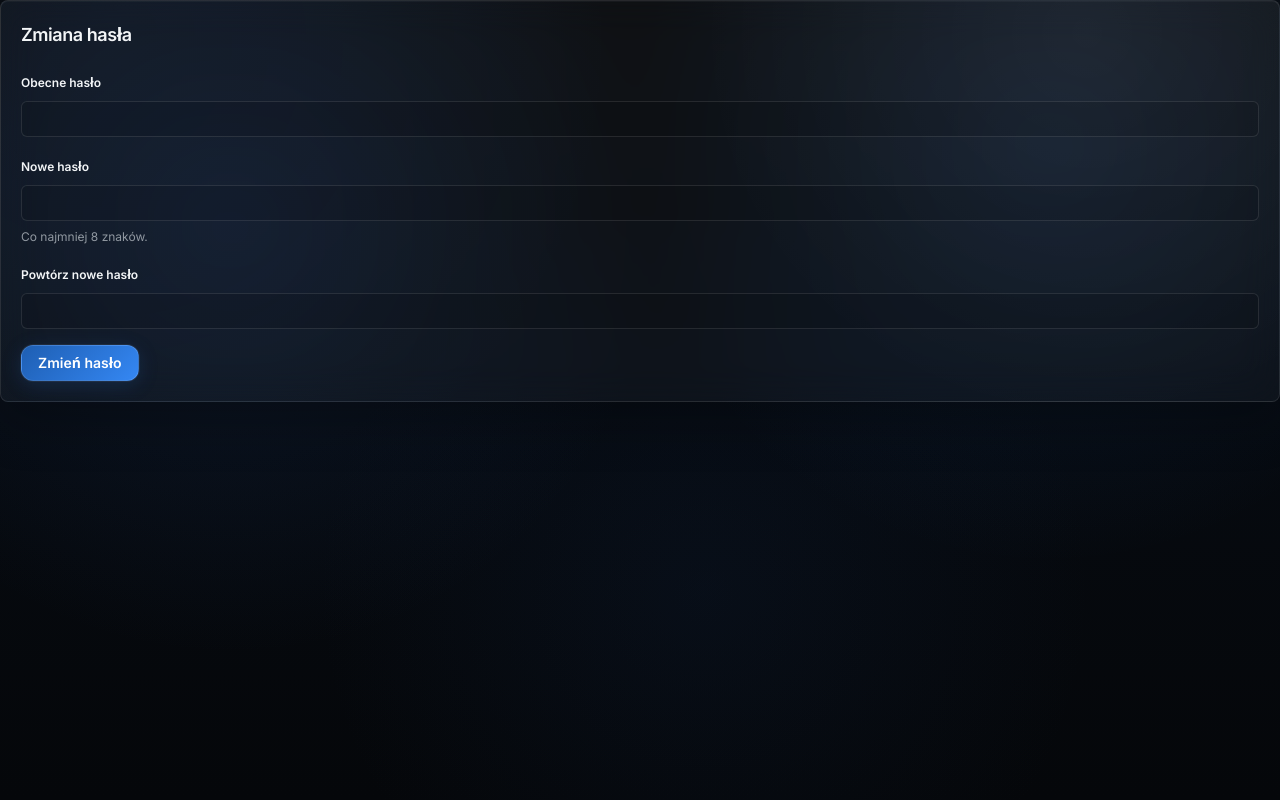
Test: ChangePasswordCard › blocks a too-short password
The width and height of the screenshot is (1280, 800).
Type "demo1234" into the password field labelled "Obecne hasło".
click(640, 119); type("demo1234")  # box [21,101,1259,137]
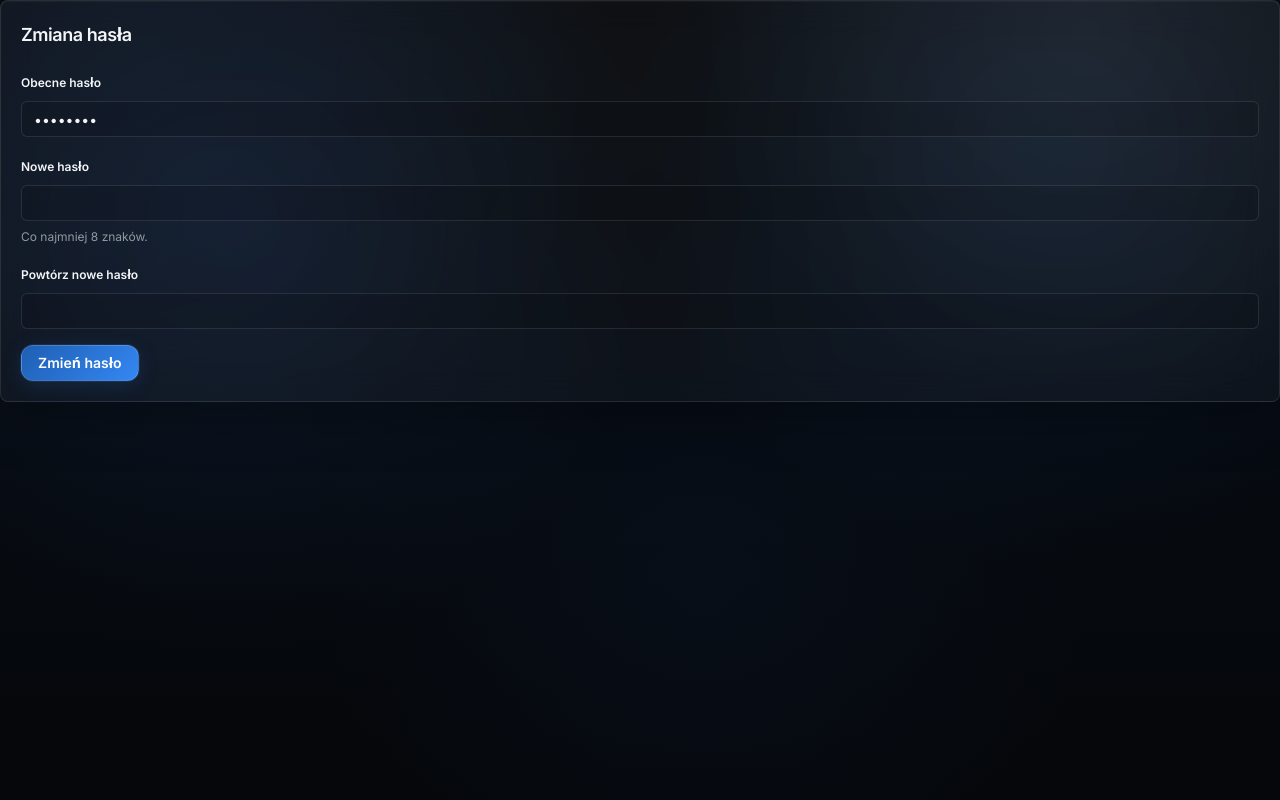
Type "short7!" into the password field labelled "Nowe hasło".
click(640, 203); type("short7!")  # box [21,185,1259,221]
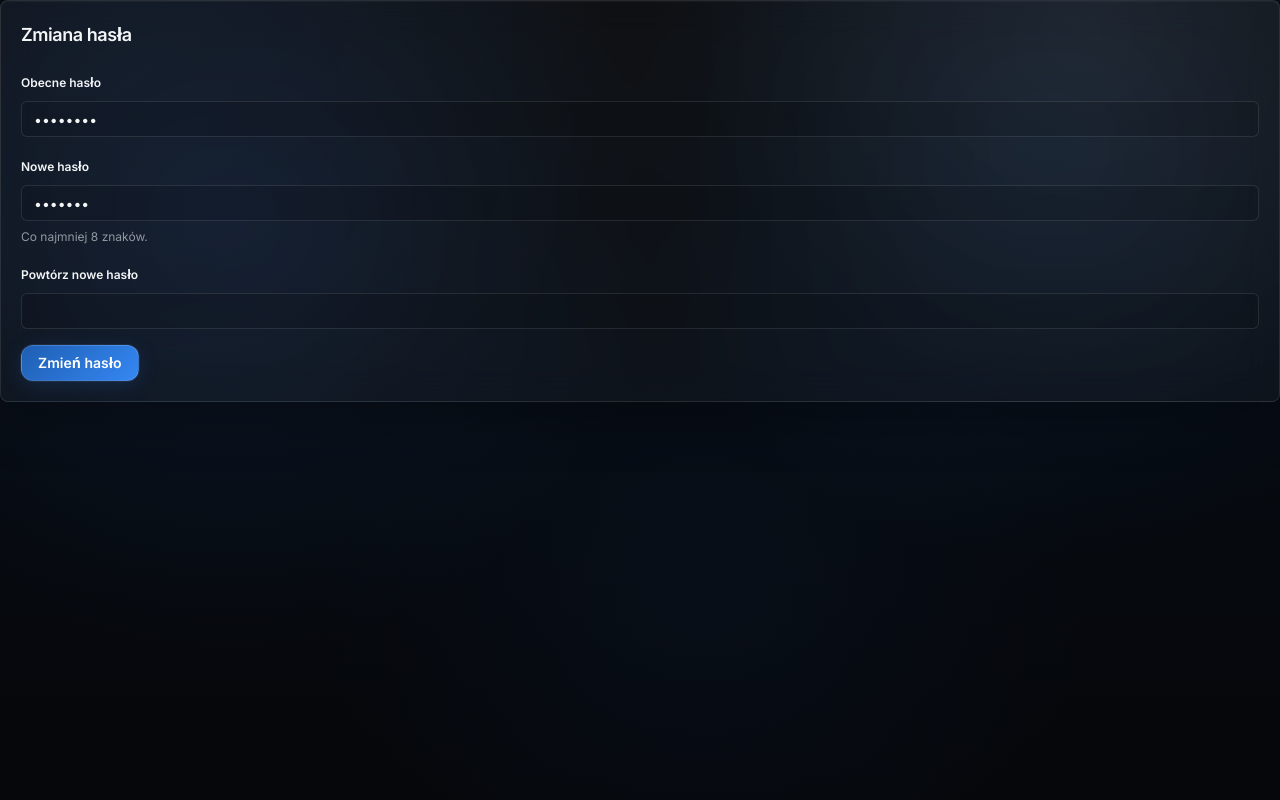
Type "short7!" into the password field labelled "Powtórz nowe hasło".
click(640, 311); type("short7!")  # box [21,293,1259,329]
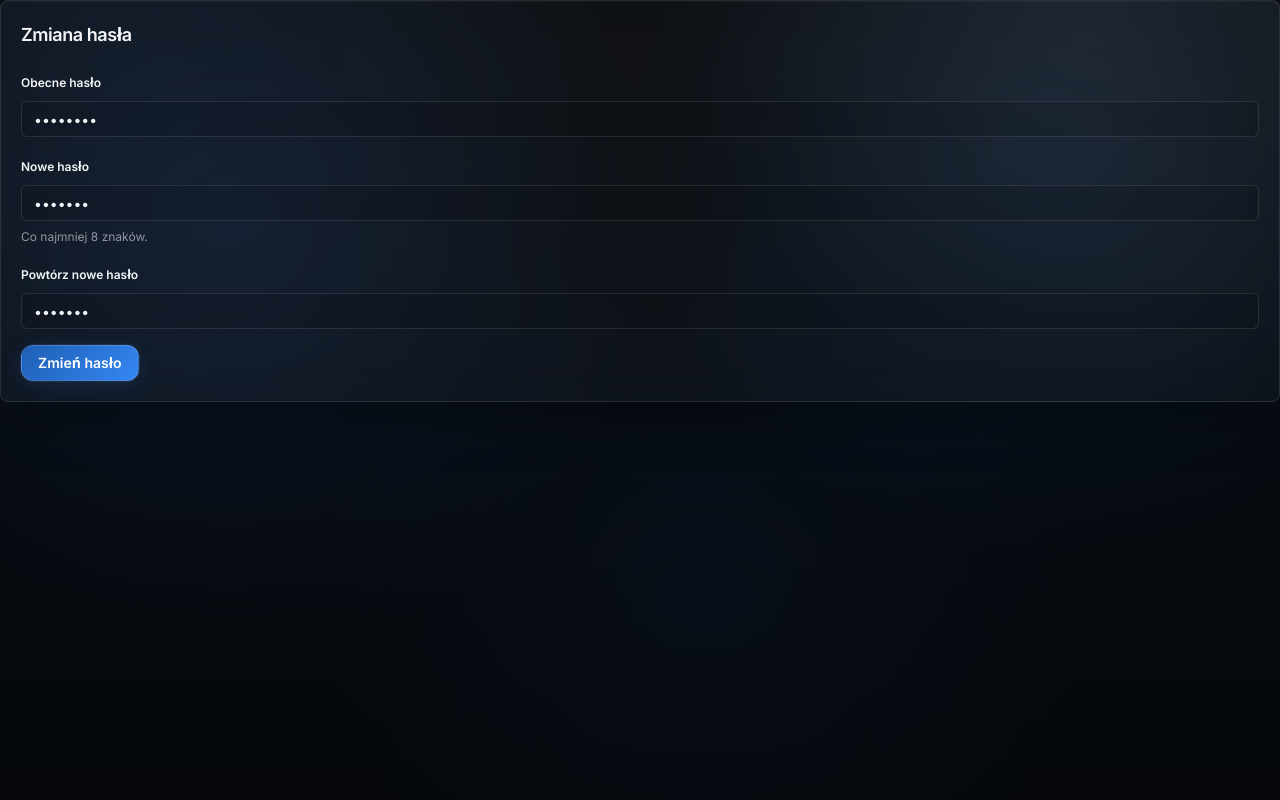
Click the button "Zmień hasło".
click(80, 363)  # box [21,345,138,381]
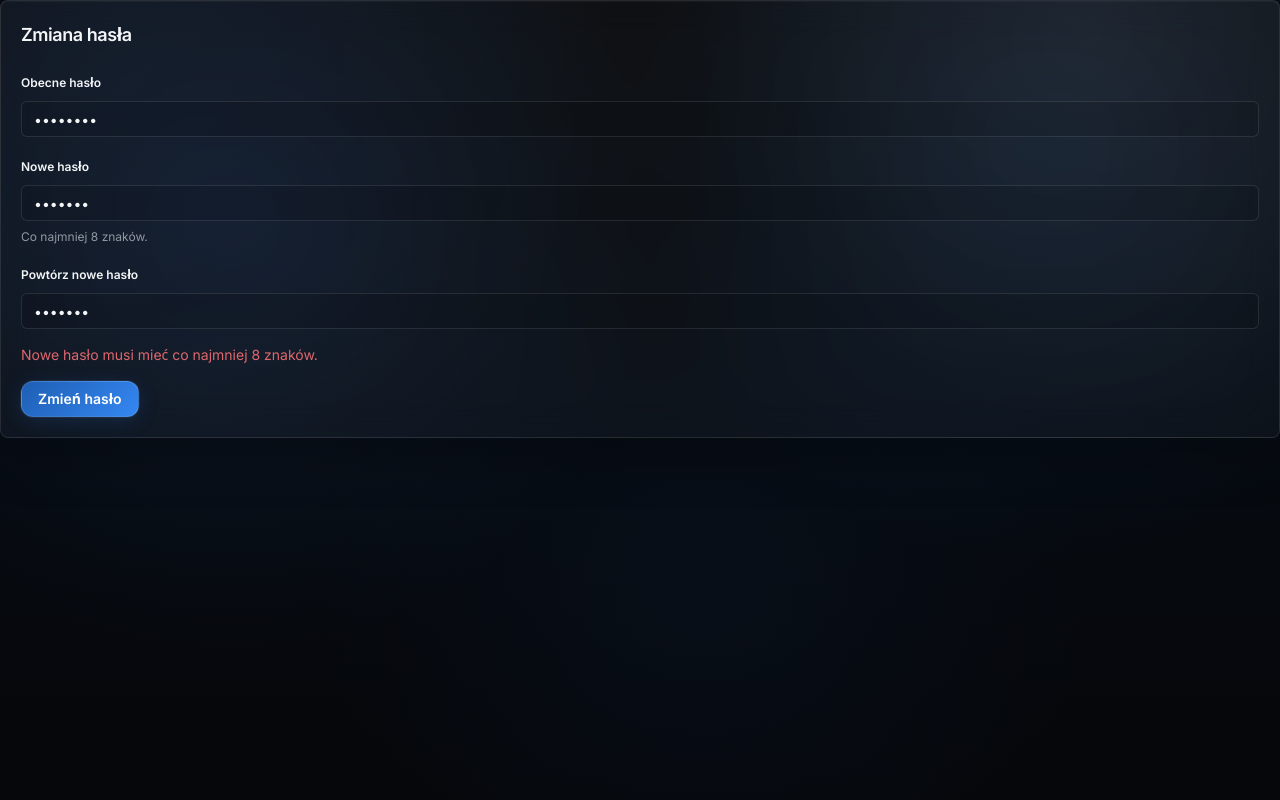
Now the message reads "Nowe hasło musi mieć co najmniej 8 znaków.", box [21,346,318,363]
